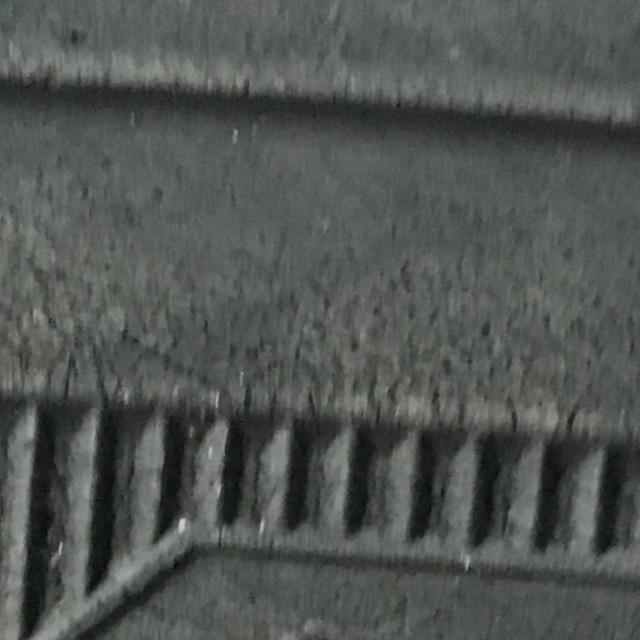Cracks: (0, 228, 639, 435), (0, 31, 639, 142)
